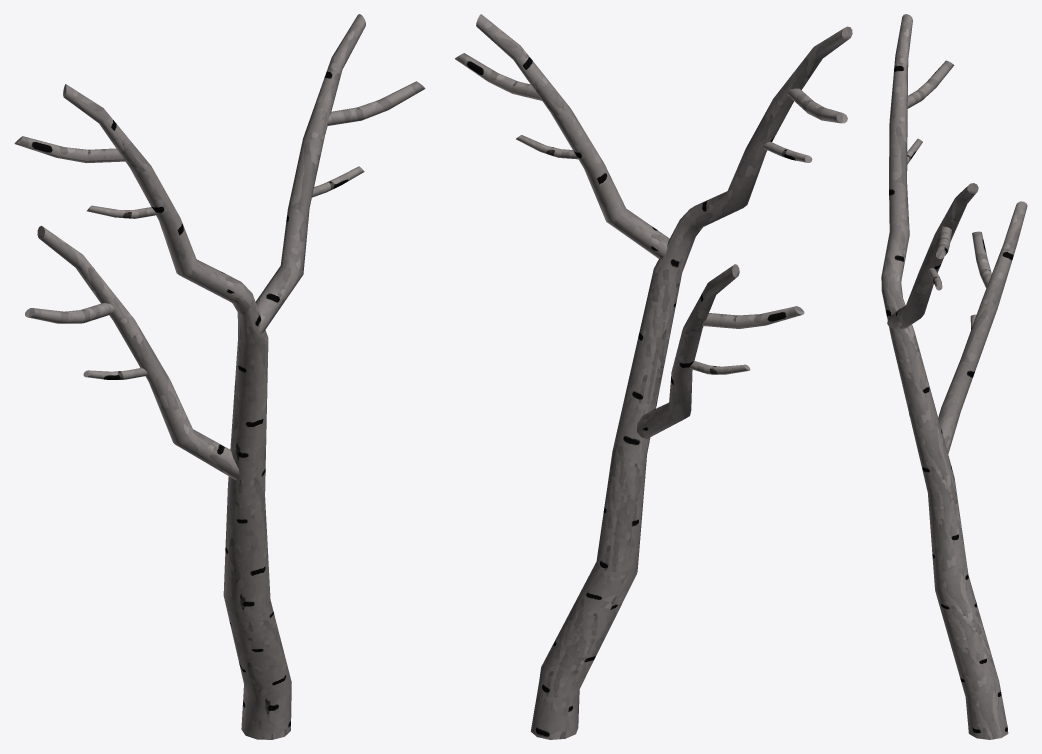
The model's file is deadbirch_5.glb.
3 views of the same model, side by side, from view 1: azimuth 30°, elevation 25°; view 2: azimuth 150°, elevation 25°; view 3: azimuth 270°, elevation 25° (orthographic). The views are drawn at different scales.
Visible parts, largest first — view 1: DeadBirch_5; view 2: DeadBirch_5; view 3: DeadBirch_5.
Boxes of the visible parts, left/top/right/bottom form: DeadBirch_5: left=14, top=14, right=425, bottom=739; DeadBirch_5: left=455, top=14, right=852, bottom=739; DeadBirch_5: left=881, top=14, right=1027, bottom=739.
Bounding box in the file's own units: 5.02 × 8.8 × 1.89.
Materials: 1 (1 with a texture image).
